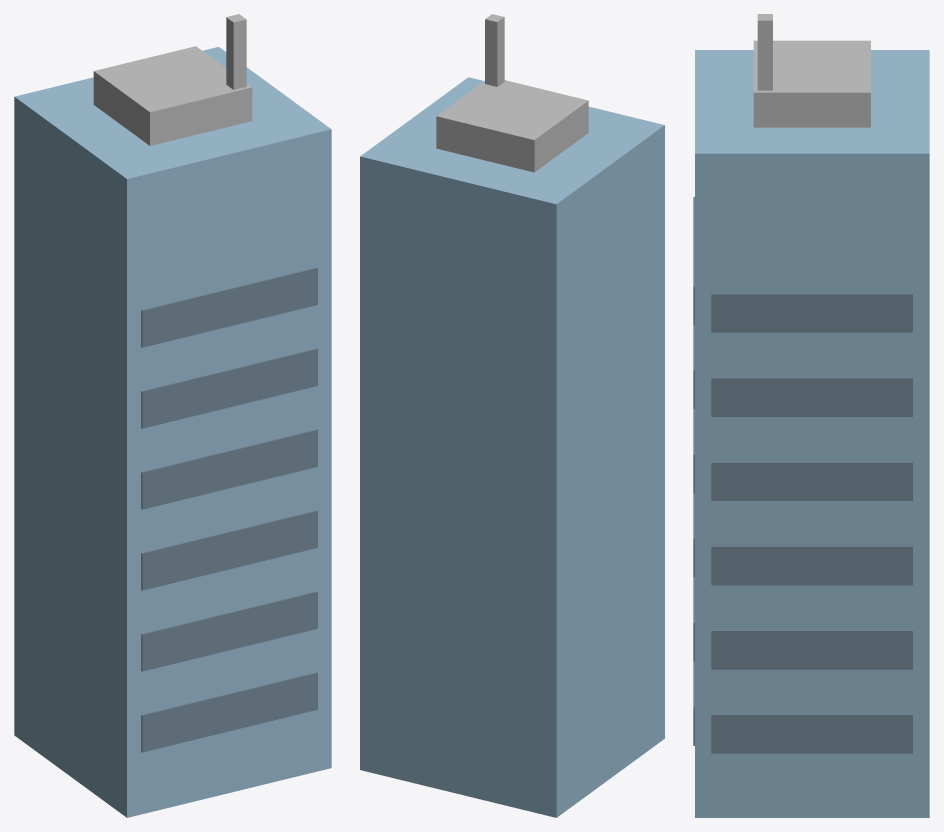
File: building_1.glb
3 renders of one model, left to right at view 1: azimuth 30°, elevation 25°; view 2: azimuth 150°, elevation 25°; view 3: azimuth 270°, elevation 25°, orthographic. The views are drawn at different scales.
Visible parts, largest first — view 1: building_1; view 2: building_1; view 3: building_1.
Boxes of the visible parts, bbox=[...] form: building_1: bbox=[14, 14, 331, 817]; building_1: bbox=[360, 14, 664, 817]; building_1: bbox=[693, 14, 929, 817].
Size of the model in its own units: 3.19 by 10.97 by 3.05.
